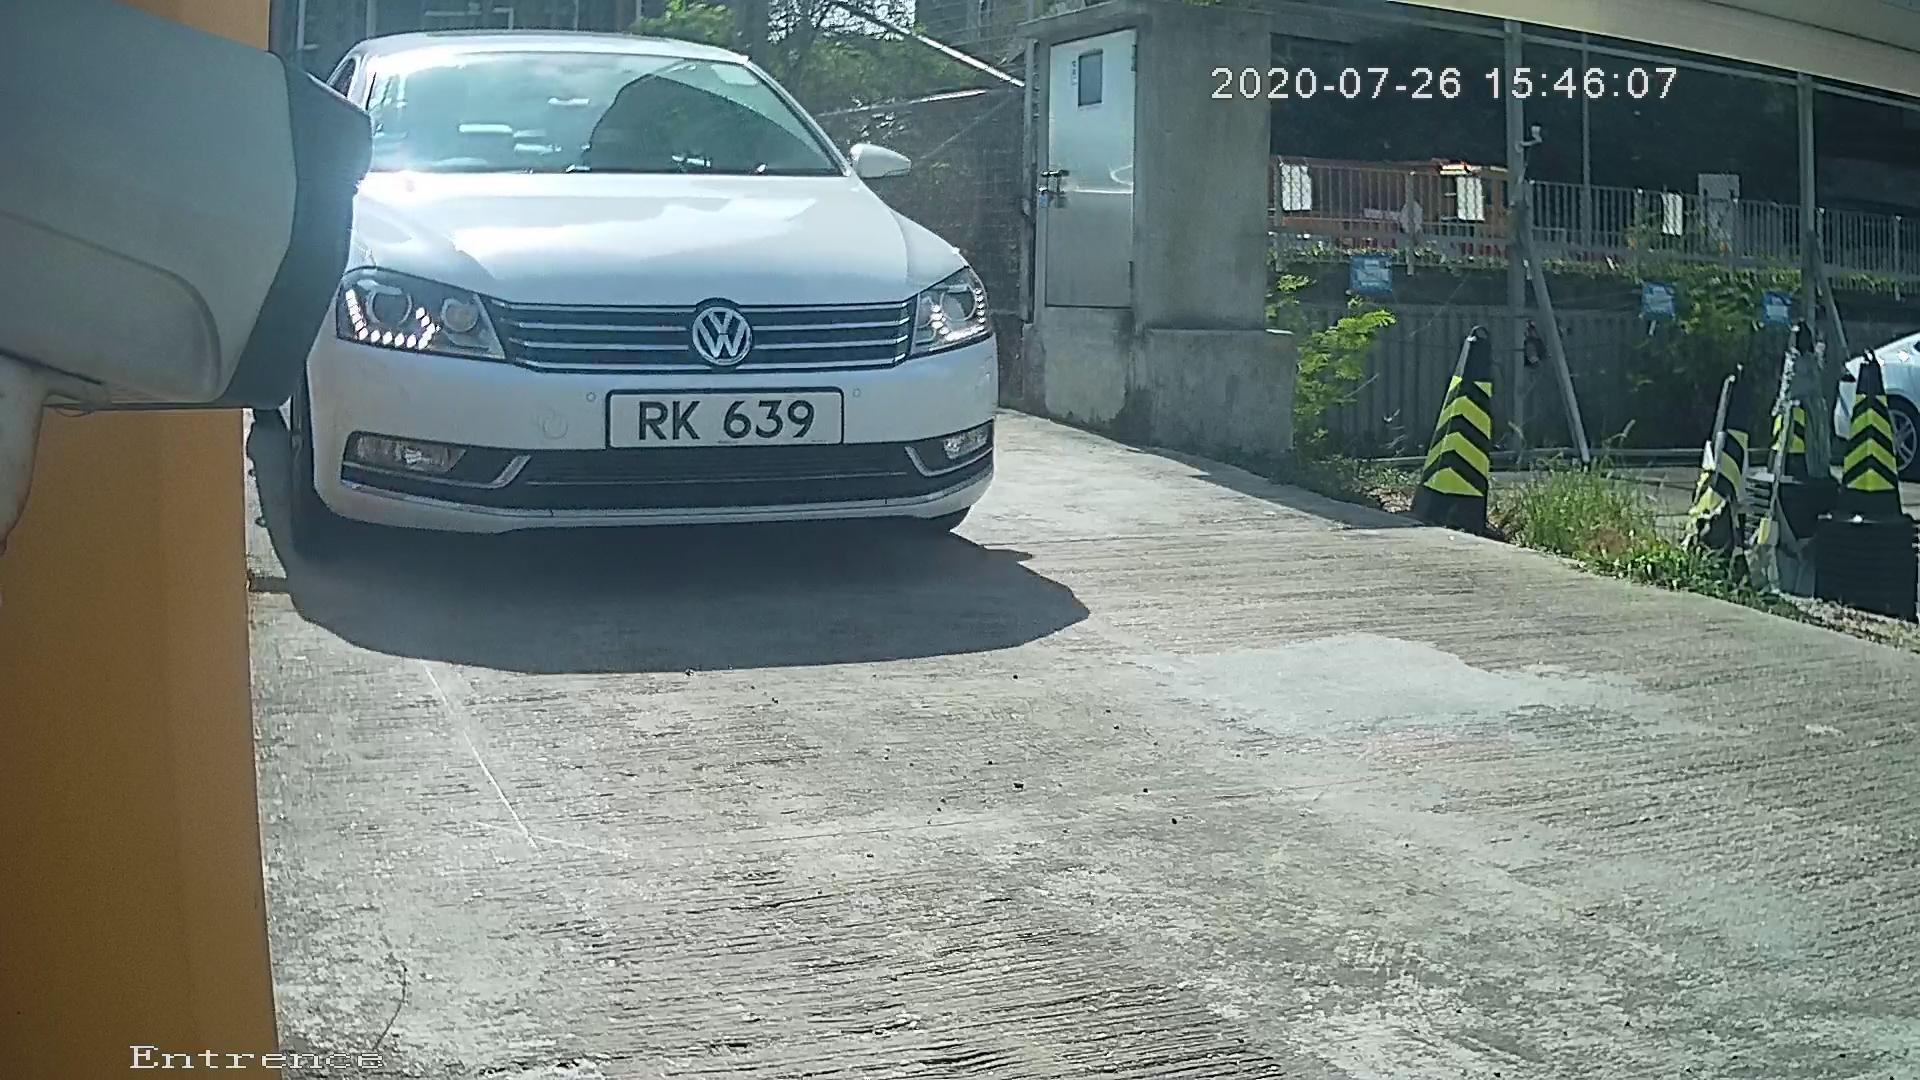privatecar: (241, 5, 1081, 666)
